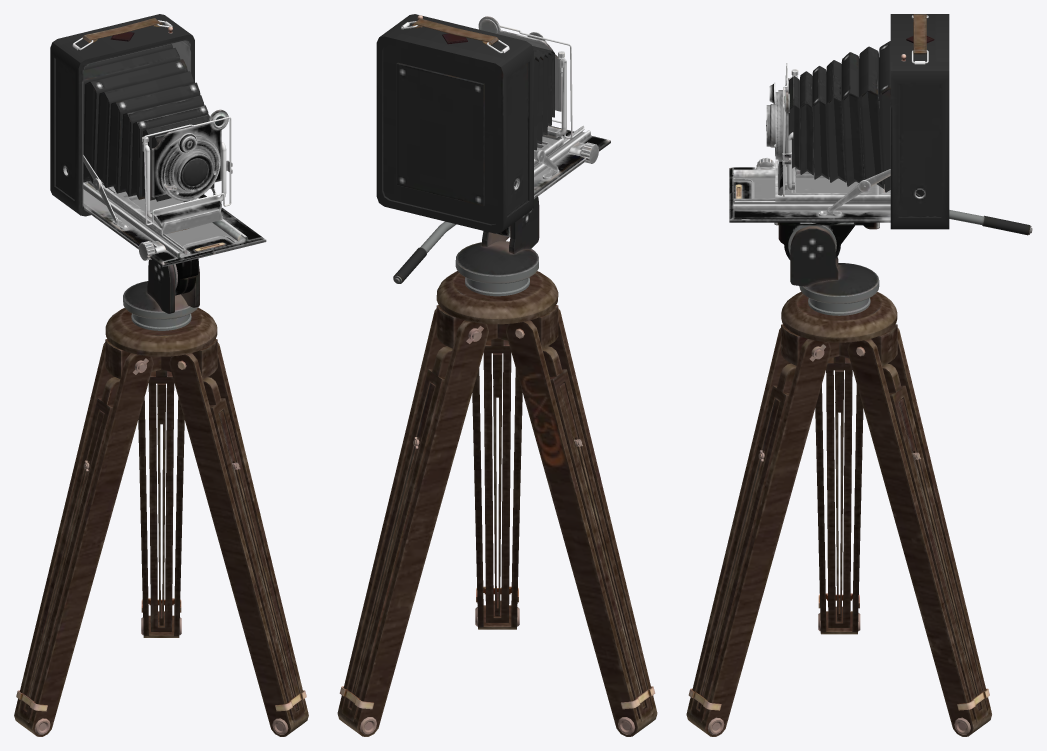
File: AntiqueCamera.glb
The picture shows the model from 3 angles, left to right: view 1: azimuth 30°, elevation 25°; view 2: azimuth 150°, elevation 25°; view 3: azimuth 270°, elevation 25°; orthographic projection. The views are drawn at different scales.
Visible parts, largest first — view 1: tripod, camera; view 2: tripod, camera; view 3: tripod, camera.
Part boxes in pixels (x1,y1,x2,y2): tripod: [14, 258, 308, 736]; camera: [50, 14, 266, 266]; tripod: [337, 196, 657, 736]; camera: [376, 14, 610, 233]; tripod: [686, 210, 1032, 736]; camera: [729, 14, 949, 229].
Bounding box in the file's own units: 2.6 × 7.21 × 3.39.
Materials: 2 (2 with a texture image).
